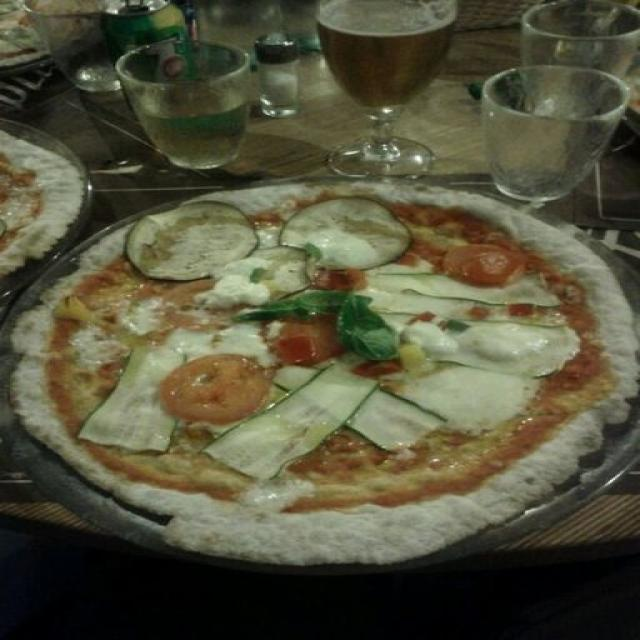Basil: (338, 294, 398, 364), (240, 287, 354, 322)
Cheese: (409, 364, 533, 434), (451, 310, 573, 372), (72, 294, 170, 366), (166, 323, 276, 361), (210, 260, 273, 306), (402, 321, 462, 351)
Eggplant: (123, 198, 257, 288), (278, 198, 400, 271), (214, 240, 310, 299)
Pizza: (12, 181, 635, 565)
Tomato: (160, 361, 256, 417), (439, 238, 514, 280), (280, 327, 316, 361)
